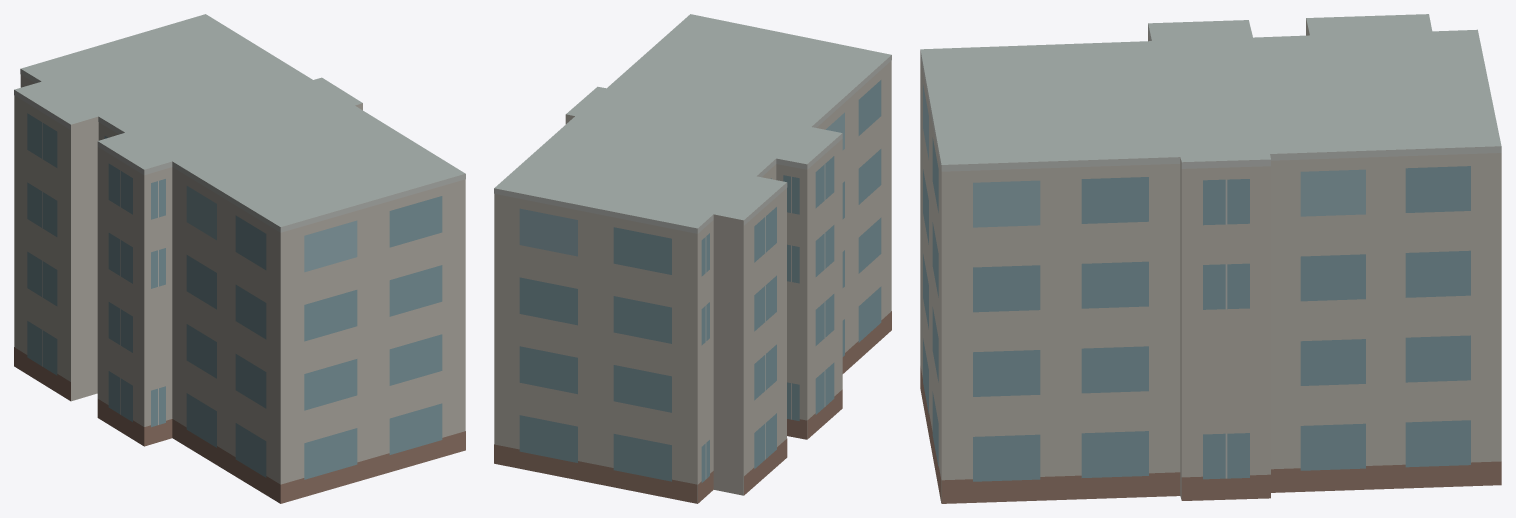
The model's file is survey-upis-32750108.glb.
3 views of the same model, side by side, from view 1: azimuth 30°, elevation 25°; view 2: azimuth 150°, elevation 25°; view 3: azimuth 270°, elevation 25° (orthographic). The views are drawn at different scales.
Parts seen in each view (by area): view 1: survey-upis-32750108.tmp; view 2: survey-upis-32750108.tmp; view 3: survey-upis-32750108.tmp.
Boxes of the visible parts, x1,y1,x2,y2 form: survey-upis-32750108.tmp: (14,14,465,503); survey-upis-32750108.tmp: (494,14,891,503); survey-upis-32750108.tmp: (920,14,1501,503).
Size of the model in its own units: 11.67 by 12.2 by 18.97.
